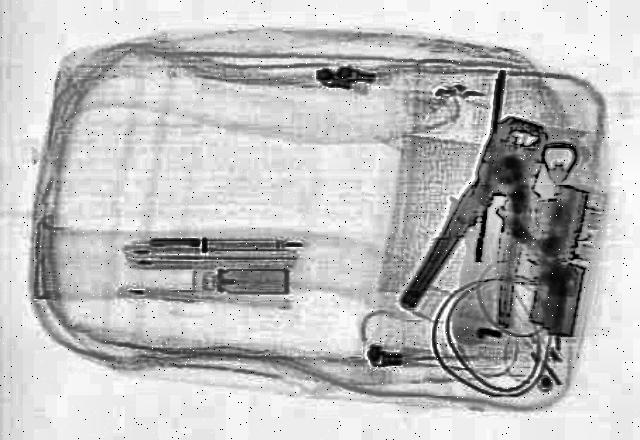Pliers: (397, 112, 579, 332)
